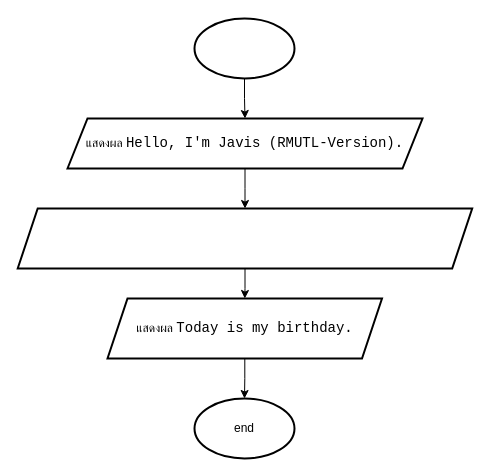
The diagram is 491 pixels wide and 476 high, and some of its shapes have lost their labels. The shapes that lost their labels are listed below. From the top down, each one's centre as x and y in pixels, then its label:
(x=244, y=48): start
(x=244, y=238): แสดงผล This is my first time to coding with C language.
